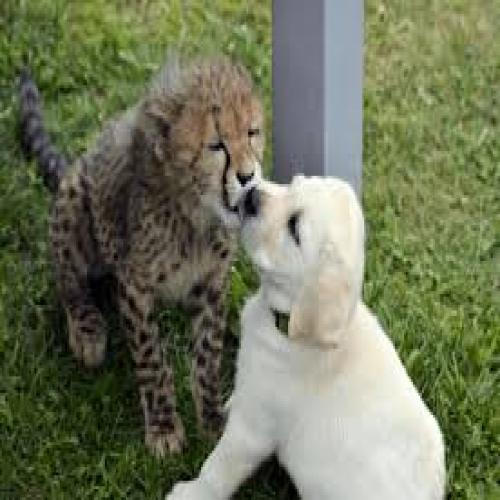cheetah-endangered: (14, 38, 266, 463)
